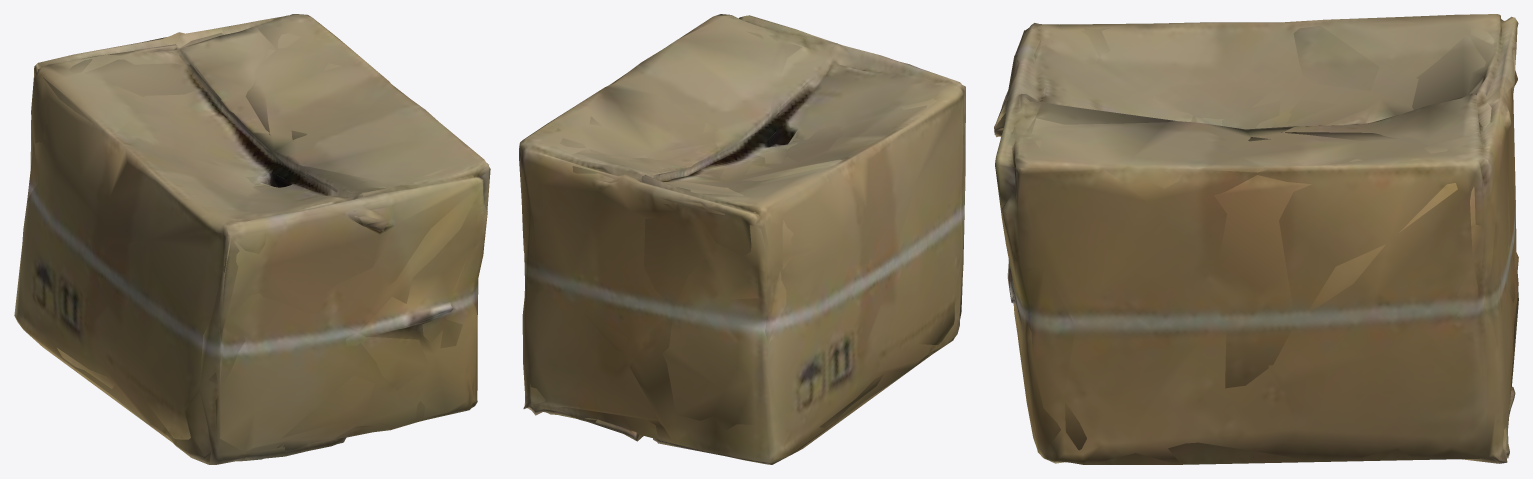
File: ph-cardboard_box_01.glb
3 views of the same model, side by side, from view 1: azimuth 30°, elevation 25°; view 2: azimuth 150°, elevation 25°; view 3: azimuth 270°, elevation 25° (orthographic). The views are drawn at different scales.
Parts seen in each view (by area): view 1: cardboard_box_01 (×2); view 2: cardboard_box_01 (×2); view 3: cardboard_box_01 (×2).
Boxes of the visible parts, x1,y1,x2,y2 form: cardboard_box_01 (×2): [14, 14, 490, 464]; cardboard_box_01 (×2): [519, 14, 965, 464]; cardboard_box_01 (×2): [994, 14, 1518, 464].
Size of the model in its own units: 0.3149 by 0.2783 by 0.42.
Materials: 1 (1 with a texture image).
